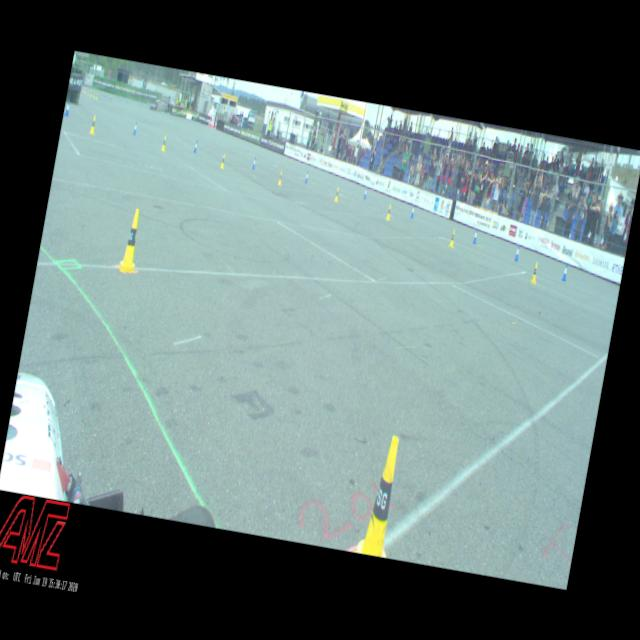blue_cone: (560, 262, 568, 281), (64, 100, 71, 116), (514, 243, 520, 260), (472, 227, 478, 243), (132, 121, 138, 135), (410, 204, 416, 218), (192, 139, 198, 152), (304, 170, 309, 183), (363, 187, 368, 199), (252, 156, 256, 169)
yellow_cone: (352, 432, 407, 558), (117, 207, 146, 274), (530, 262, 538, 284), (89, 114, 97, 134), (448, 228, 456, 248), (160, 135, 168, 151), (385, 203, 392, 220), (220, 152, 226, 168), (334, 186, 339, 202), (278, 170, 282, 186)
